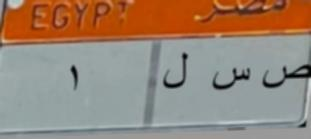1: (65, 59, 82, 98)
laam: (161, 50, 195, 97)
saad: (258, 55, 311, 98)
seen: (208, 61, 252, 96)
